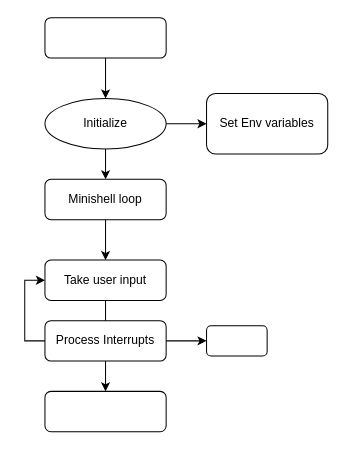
Image size: 345x449. Some labels were removed from this diagram. Each missing label, with the box of its shape:
./minishell: (44, 17, 166, 58)
Exit: (206, 325, 267, 356)
Lexing: (44, 390, 166, 432)
